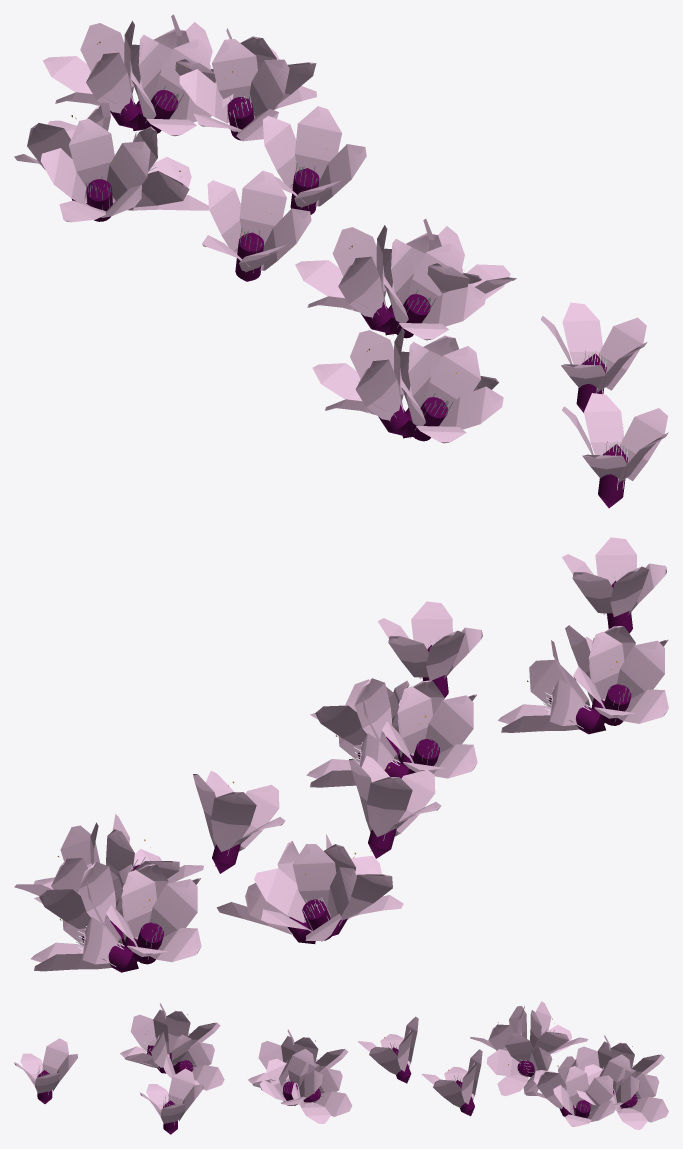
The model's file is very low polly cherry.fbx.
3 renders of one model, top to bottom at view 1: azimuth 30°, elevation 25°; view 2: azimuth 150°, elevation 25°; view 3: azimuth 270°, elevation 25°, orthographic. The views are drawn at different scales.
Parts seen in each view (by area): view 1: pSphere54 (×2), pSphere55 (×2), one_flower:pSphere33, pSphere33, pSphere59, pSphere60, pSphere48, pSphere57, pSphere62, pSphere64, pSphere53, pSphere66 (+6 smaller); view 2: pSphere55 (×2), pSphere64, pSphere57, pSphere62, pSphere54 (×2), one_flower:pSphere33, pSphere33, pSphere48, pSphere53, pSphere58, pSphere65, pSphere63 (+6 smaller); view 3: pSphere54 (×2), pSphere55 (×2), pSphere56, pSphere63, pSphere48, pSphere53, pSphere61, pSphere58, pSphere59, pSphere65, one_flower:pSphere33, pSphere33 (+6 smaller).
Boxes of the visible parts, bbox=[...] form: pSphere54 (×2): bbox=[40, 28, 316, 222]; pSphere55 (×2): bbox=[14, 39, 289, 203]; one_flower:pSphere33: bbox=[202, 170, 311, 281]; pSphere33: bbox=[262, 106, 366, 214]; pSphere59: bbox=[401, 342, 503, 443]; pSphere60: bbox=[383, 239, 486, 340]; pSphere48: bbox=[562, 393, 668, 508]; pSphere57: bbox=[312, 328, 409, 436]; pSphere62: bbox=[295, 225, 392, 333]; pSphere64: bbox=[43, 21, 139, 129]; pSphere53: bbox=[541, 302, 647, 412]; pSphere66: bbox=[131, 35, 233, 136]; pSphere55 (×2): bbox=[106, 814, 356, 941]; pSphere64: bbox=[106, 870, 201, 964]; pSphere57: bbox=[573, 631, 668, 725]; pSphere62: bbox=[382, 686, 477, 778]; pSphere54 (×2): bbox=[14, 822, 403, 935]; one_flower:pSphere33: bbox=[349, 756, 441, 858]; pSphere33: bbox=[193, 771, 285, 873]; pSphere48: bbox=[562, 537, 666, 633]; pSphere53: bbox=[377, 601, 482, 698]; pSphere58: bbox=[498, 640, 605, 734]; pSphere65: bbox=[30, 881, 138, 972]; pSphere63: bbox=[310, 678, 409, 761]; pSphere54 (×2): bbox=[470, 1005, 615, 1126]; pSphere55 (×2): bbox=[525, 1001, 588, 1116]; pSphere56: bbox=[486, 1033, 552, 1096]; pSphere63: bbox=[259, 1048, 323, 1106]; pSphere48: bbox=[14, 1038, 77, 1104]; pSphere53: bbox=[140, 1068, 203, 1134]; pSphere61: bbox=[291, 1061, 352, 1123]; pSphere58: bbox=[163, 1034, 224, 1097]; pSphere59: bbox=[120, 1009, 169, 1073]; pSphere65: bbox=[609, 1067, 668, 1129]; one_flower:pSphere33: bbox=[358, 1016, 418, 1083]; pSphere33: bbox=[421, 1049, 482, 1116].
Size of the model in its own units: 10.85 by 3.96 by 31.99.
